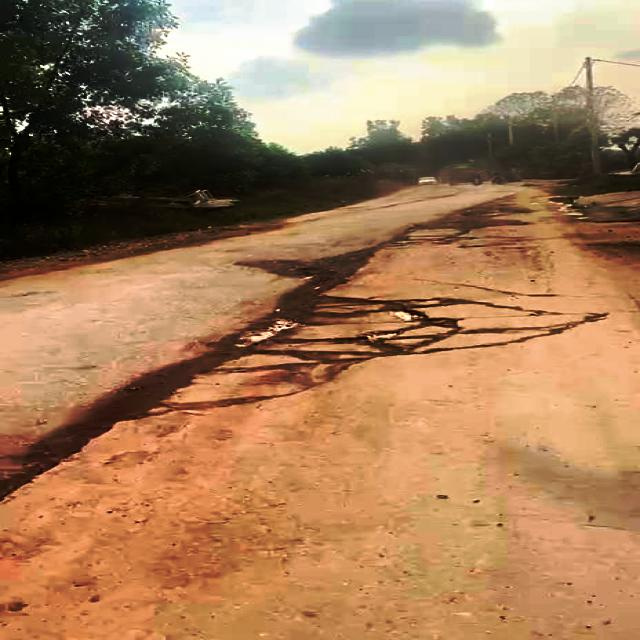pothole: (233, 287, 473, 367)
